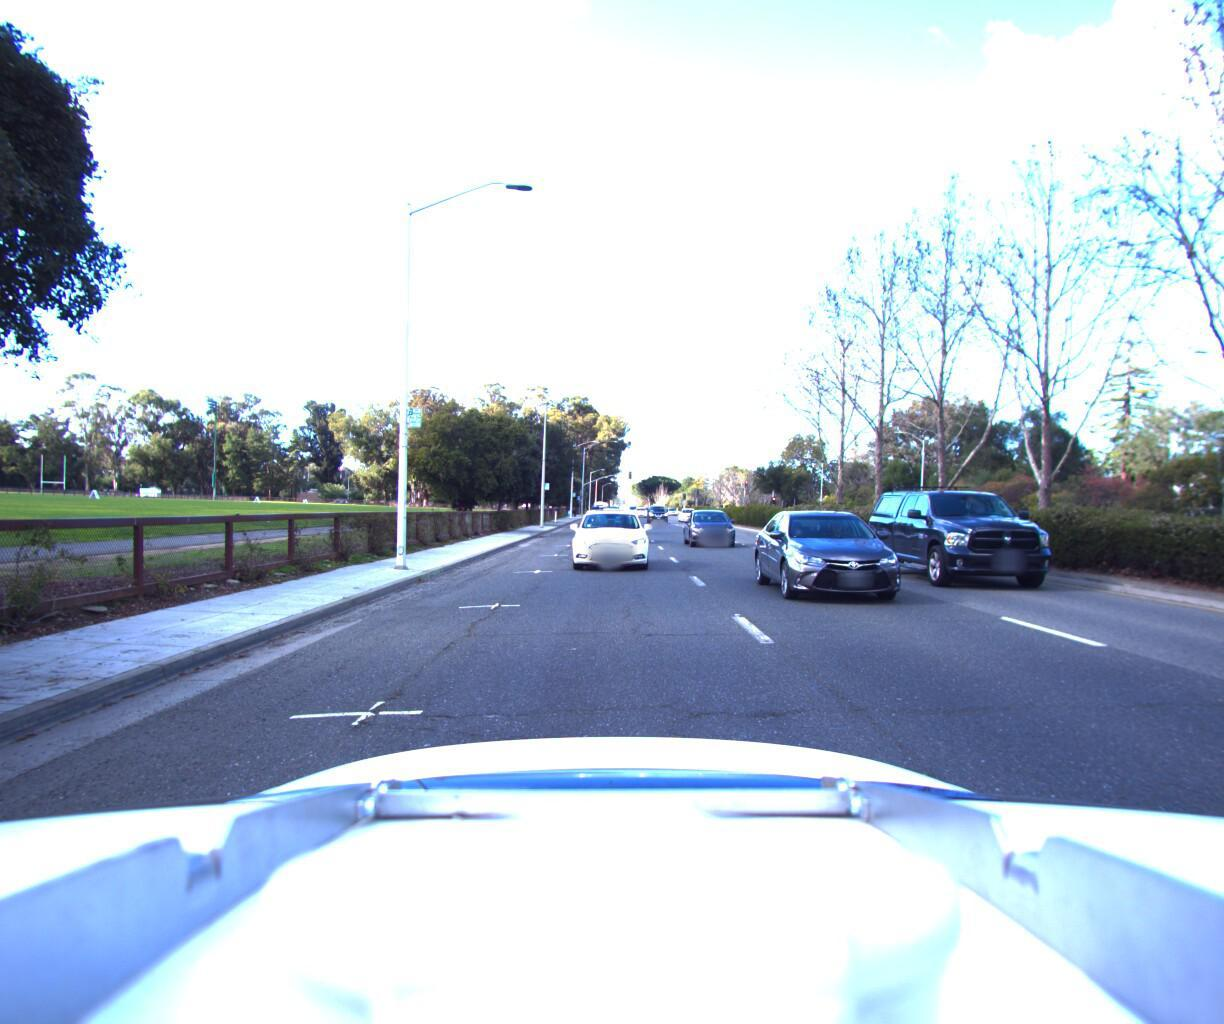car: (881, 472, 1105, 601), (760, 497, 956, 618), (564, 501, 659, 570), (682, 504, 749, 547), (674, 503, 701, 520)
